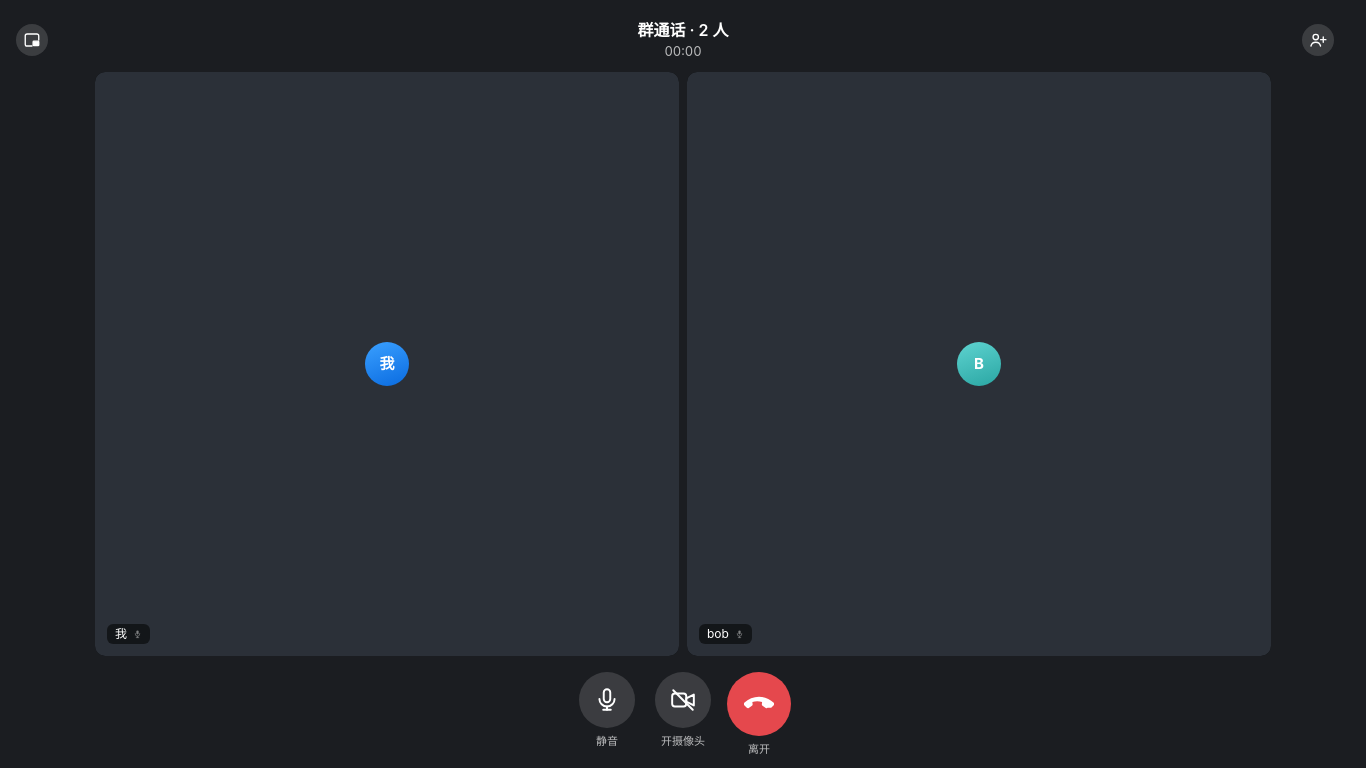
Test: 九宫格加人 › 加人被拒：满员（1202）→ 提示；本端不在通话里（1407）→ 入口藏掉
The width and height of the screenshot is (1366, 768).
What coordinates should you click on to do the following:
click the button with test id "invite-button"
I would click on:
 (1318, 40)
Its box is [1302,24,1334,56].
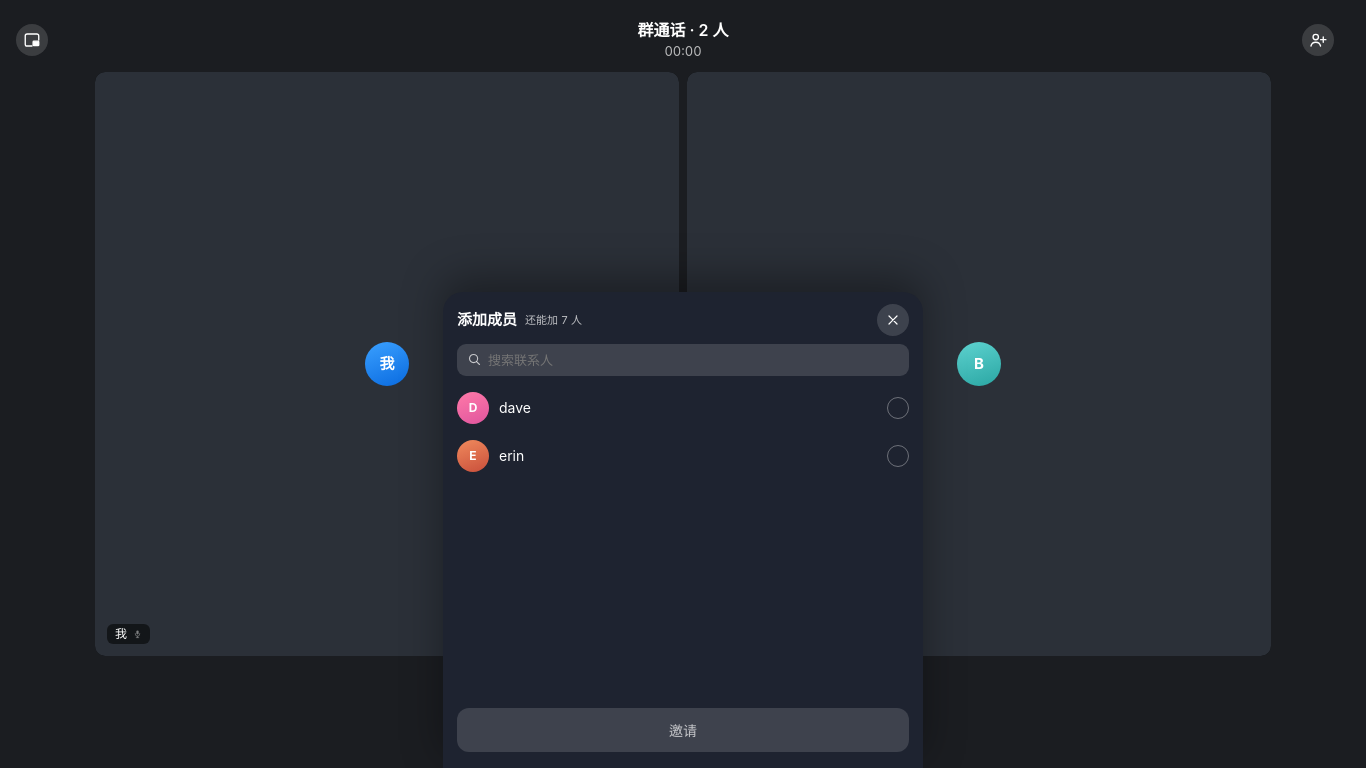
What coordinates should you click on to do the following:
click the button with test id "invite-row-dave"
I would click on:
 (473, 408)
Its box is [443,384,923,432].
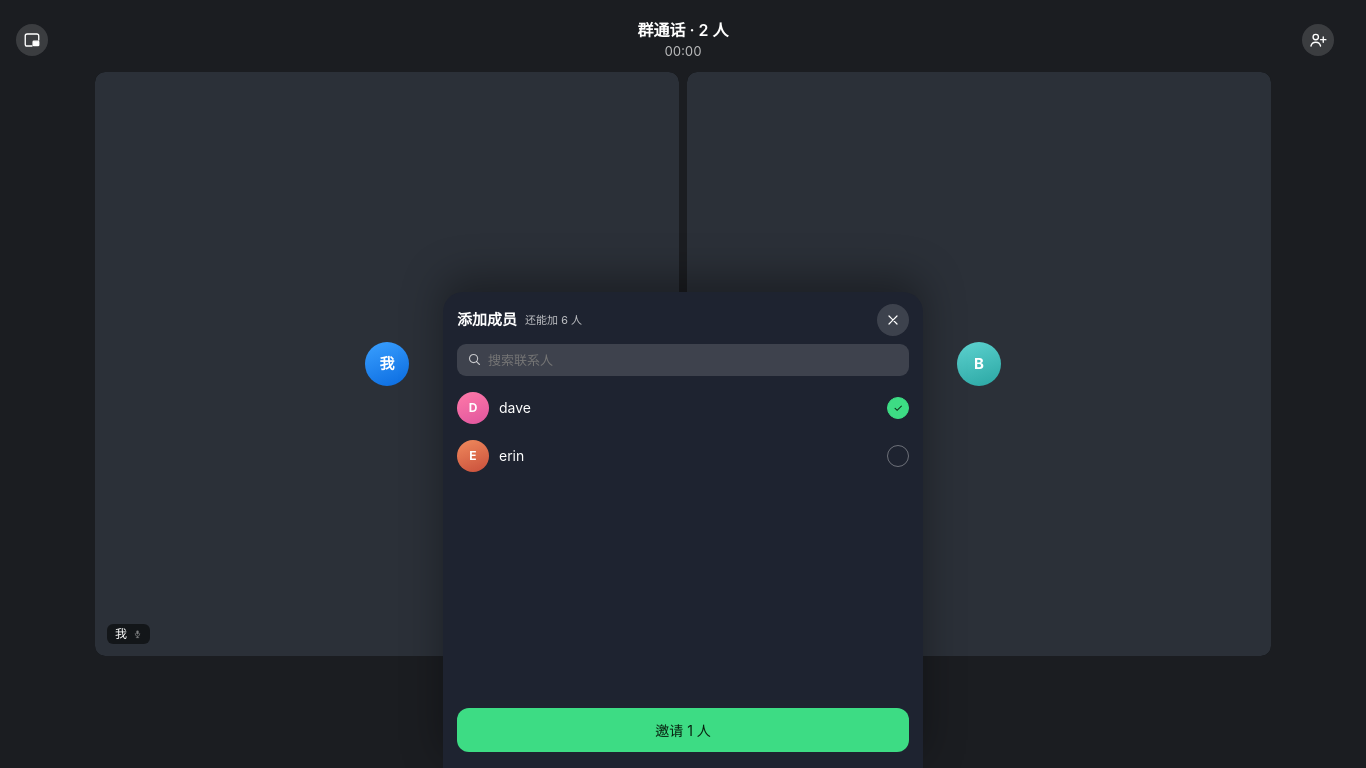
What coordinates should you click on to do the following:
click the button with test id "invite-go"
I would click on:
 (683, 730)
Its box is [457,708,909,752].
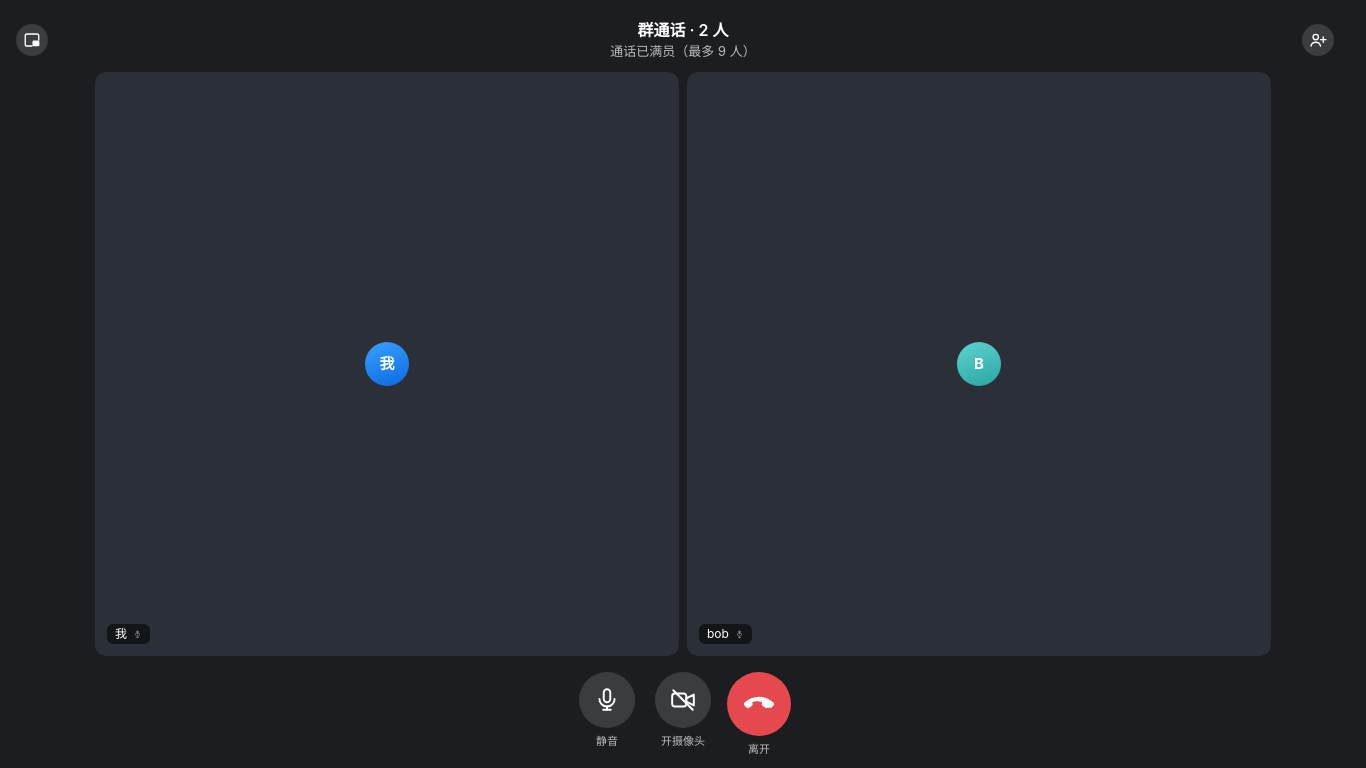
Expected: the element with test id "active-call" shows "通话已满员", [610,43,756,59]
What coordinates should you click on to do the following:
click the button with test id "invite-button"
I would click on:
 (1318, 40)
Its box is [1302,24,1334,56].
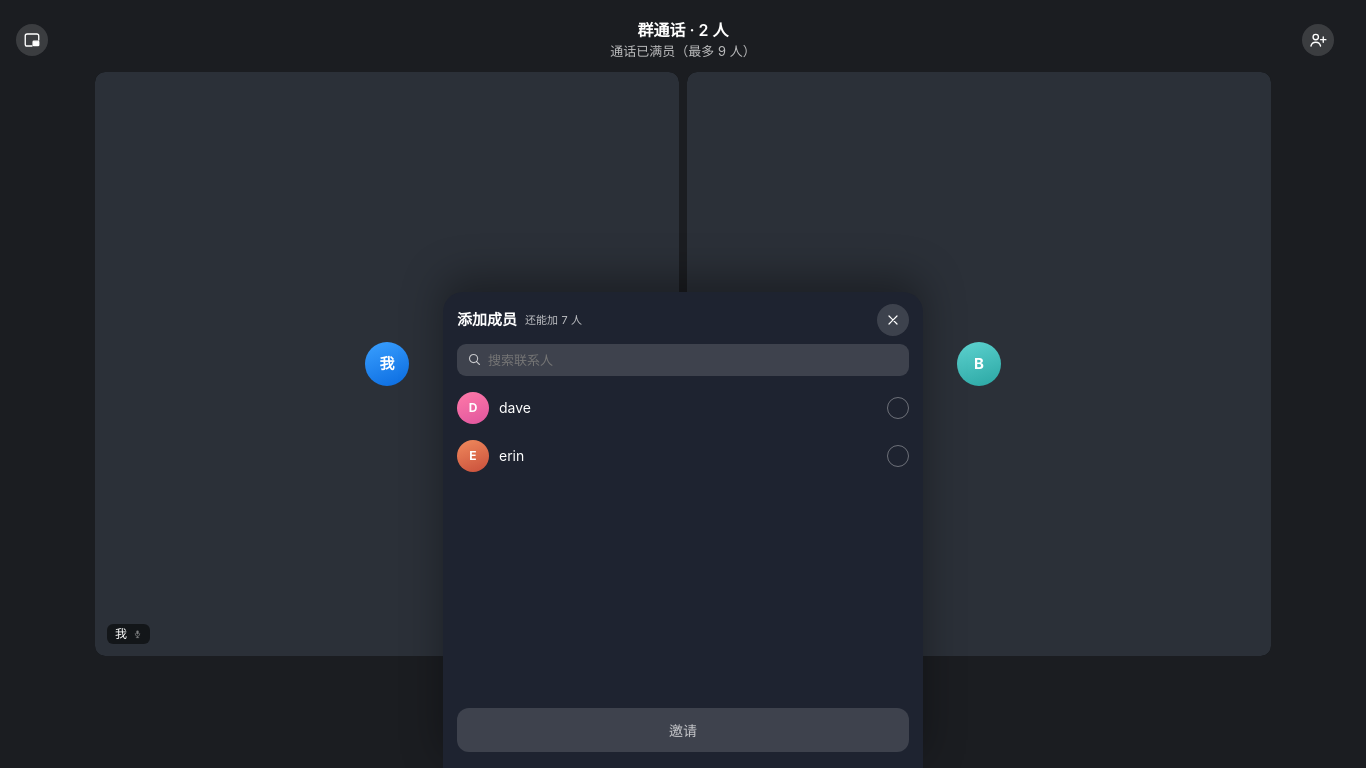
What coordinates should you click on to do the following:
click the button with test id "invite-row-erin"
I would click on:
 (473, 456)
Its box is [443,432,923,480].
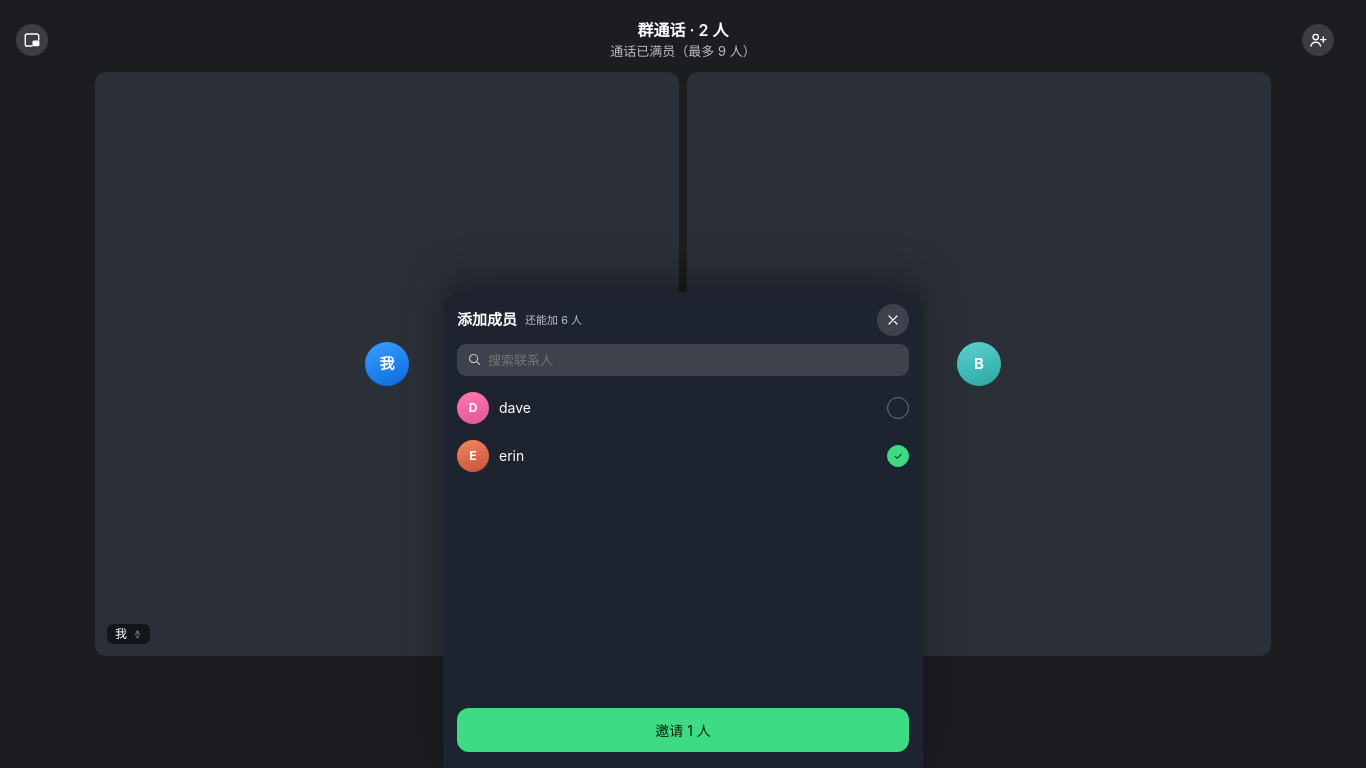
What coordinates should you click on to do the following:
click the button with test id "invite-go"
I would click on:
 (683, 730)
Its box is [457,708,909,752].
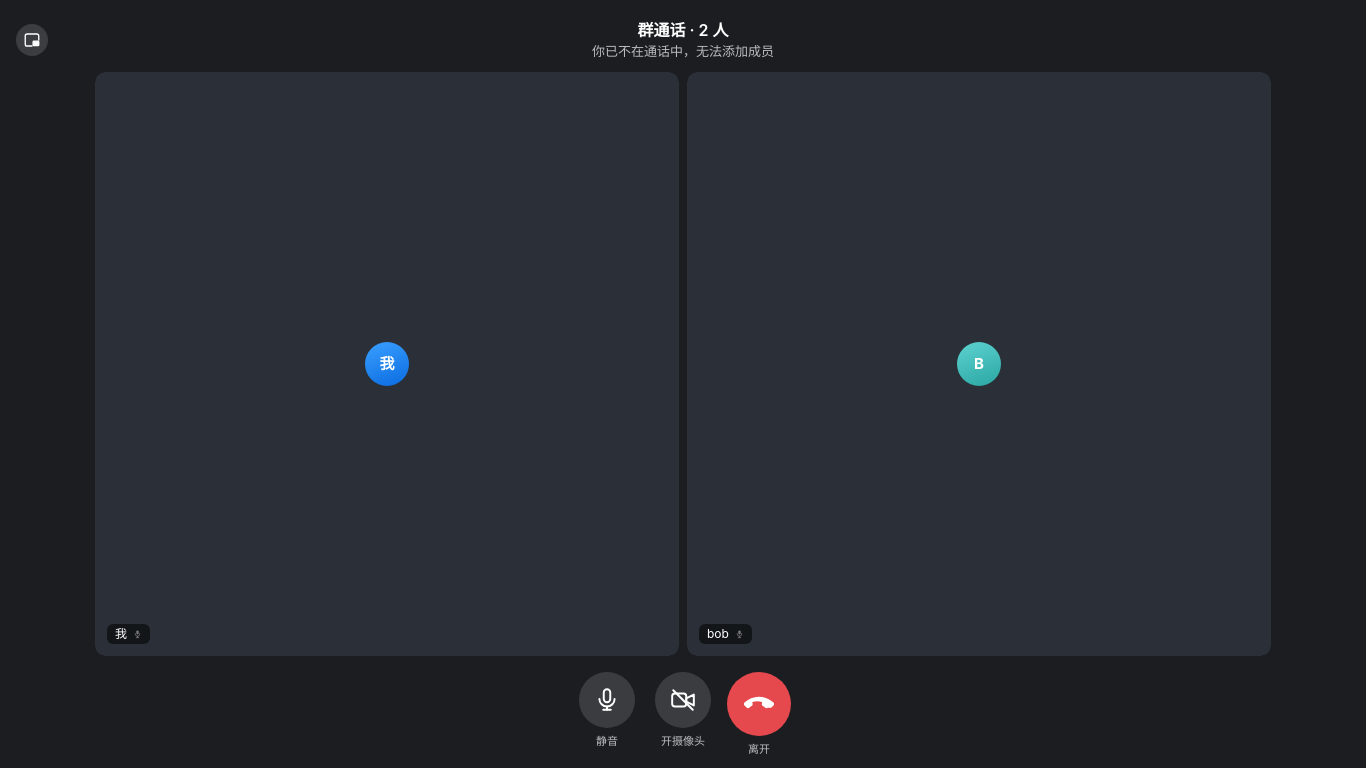
Expected: the button with test id "invite-button" is gone
